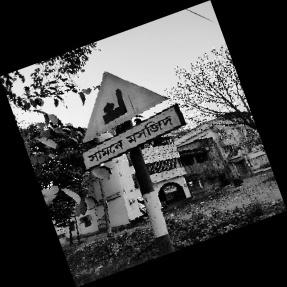Mosque in front: (80, 69, 190, 175)
